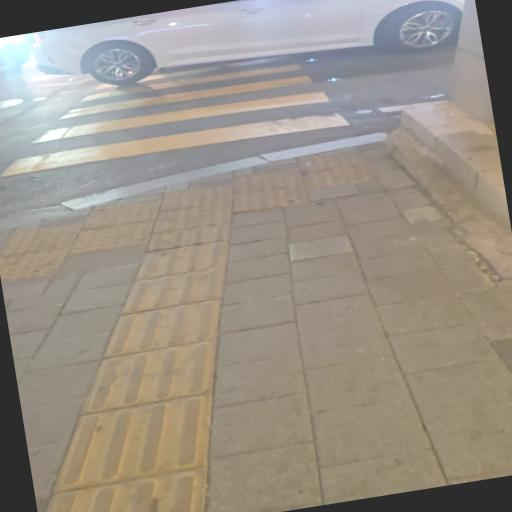yellow-crosswalk: (0, 28, 358, 190)
